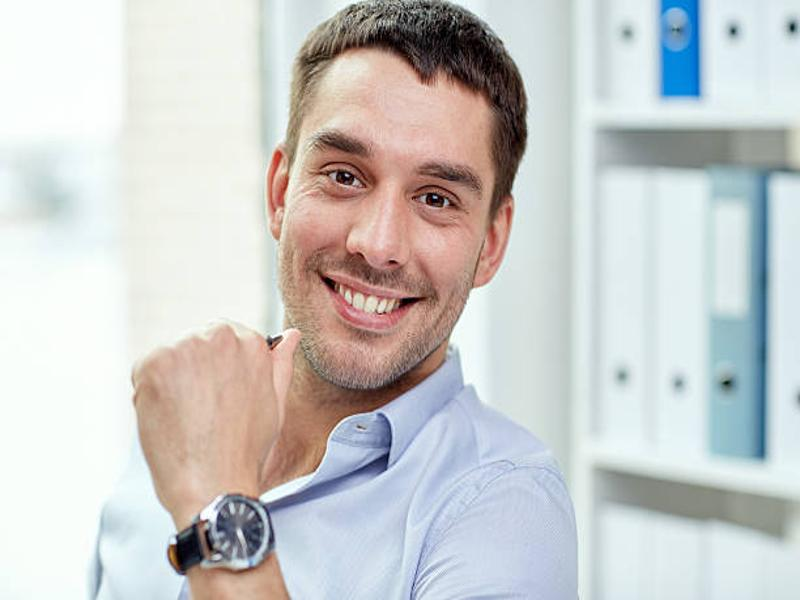watch: (165, 492, 279, 573)
